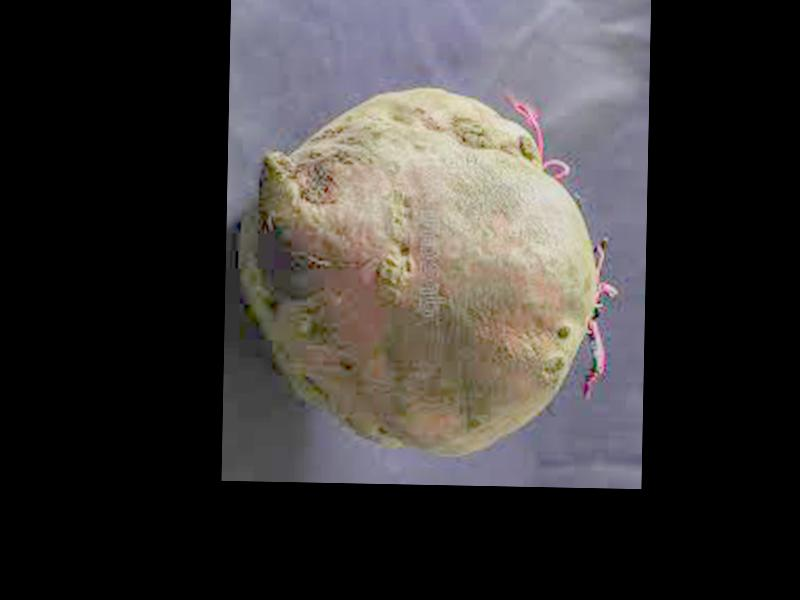Beet: (238, 84, 617, 457)
